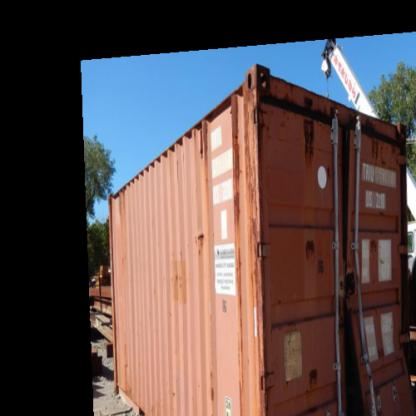Damage: (338, 232, 400, 415), (228, 87, 275, 234), (296, 86, 321, 166), (301, 225, 334, 276), (182, 215, 216, 252), (199, 356, 223, 402)
